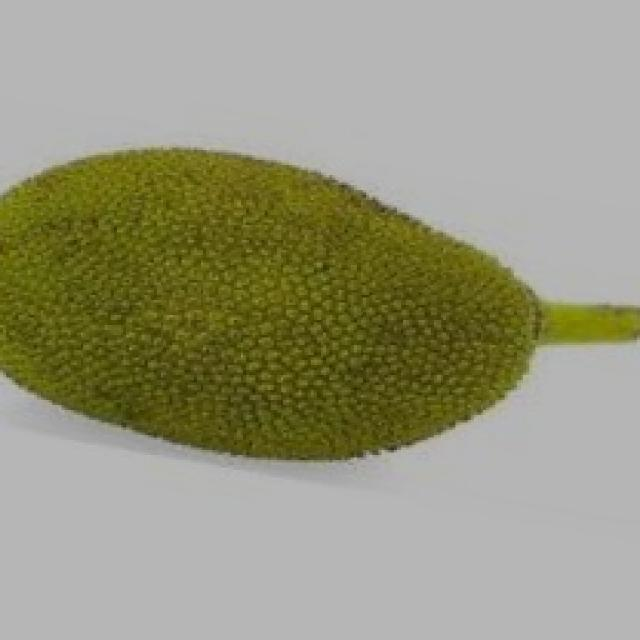Fruit: (0, 128, 400, 488), (212, 128, 563, 490)
